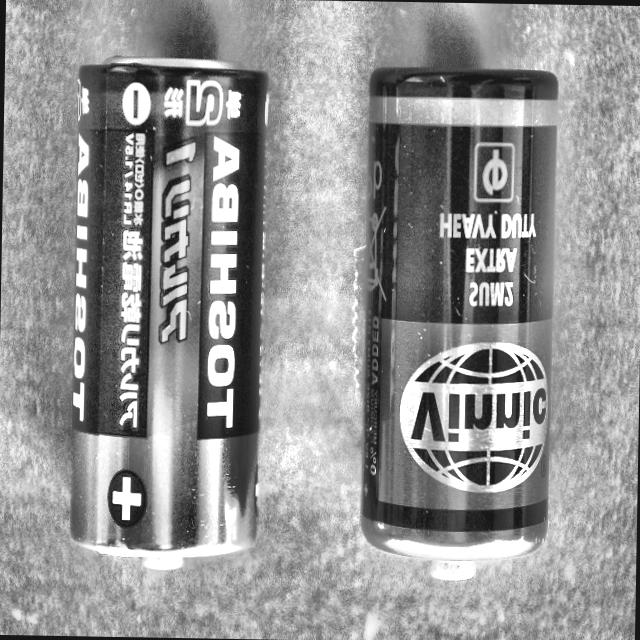drycell: (354, 56, 588, 584), (63, 48, 280, 580)
